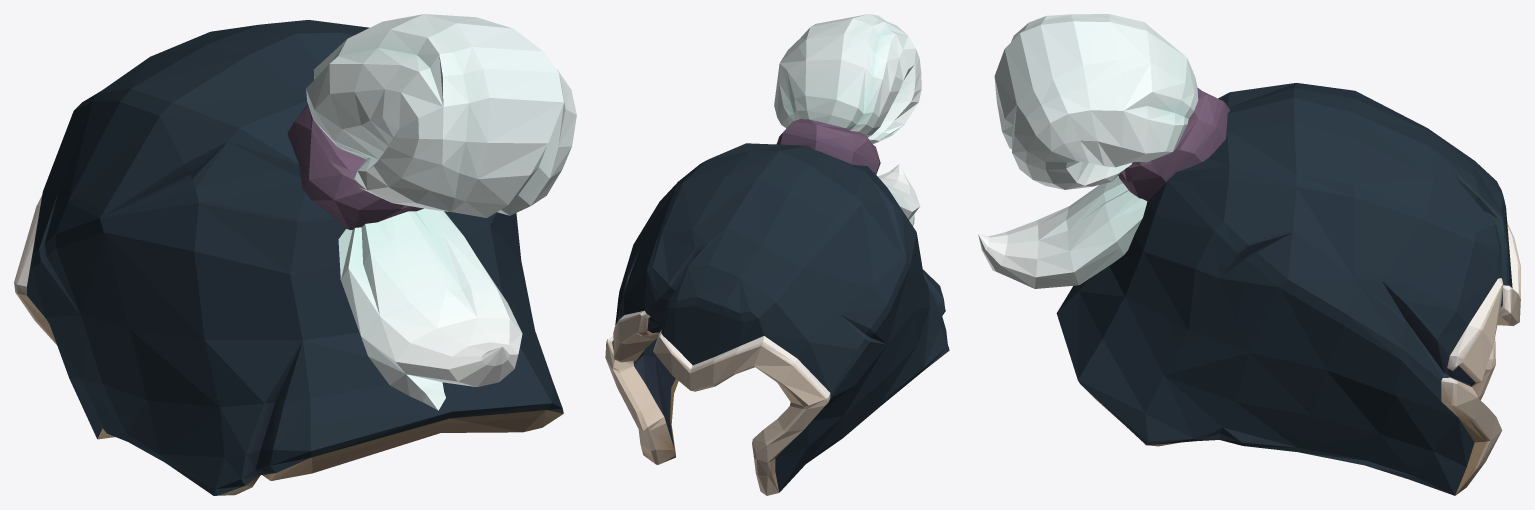
Rendered from CharSkyKid_Hair_AP27HelmetScarred.glb.
The picture shows the model from 3 angles, left to right: view 1: azimuth 30°, elevation 25°; view 2: azimuth 150°, elevation 25°; view 3: azimuth 270°, elevation 25°; orthographic projection. The views are drawn at different scales.
Parts seen in each view (by area): view 1: CharSkyKid_Hair_AP27HelmetScarred; view 2: CharSkyKid_Hair_AP27HelmetScarred; view 3: CharSkyKid_Hair_AP27HelmetScarred.
Part boxes in pixels (bbox=[...]): CharSkyKid_Hair_AP27HelmetScarred: bbox=[14, 14, 576, 495]; CharSkyKid_Hair_AP27HelmetScarred: bbox=[605, 14, 949, 495]; CharSkyKid_Hair_AP27HelmetScarred: bbox=[978, 14, 1520, 495].
Bounding box in the file's own units: 3.19 × 4.16 × 4.6.
Materials: 1 (1 with a texture image).
